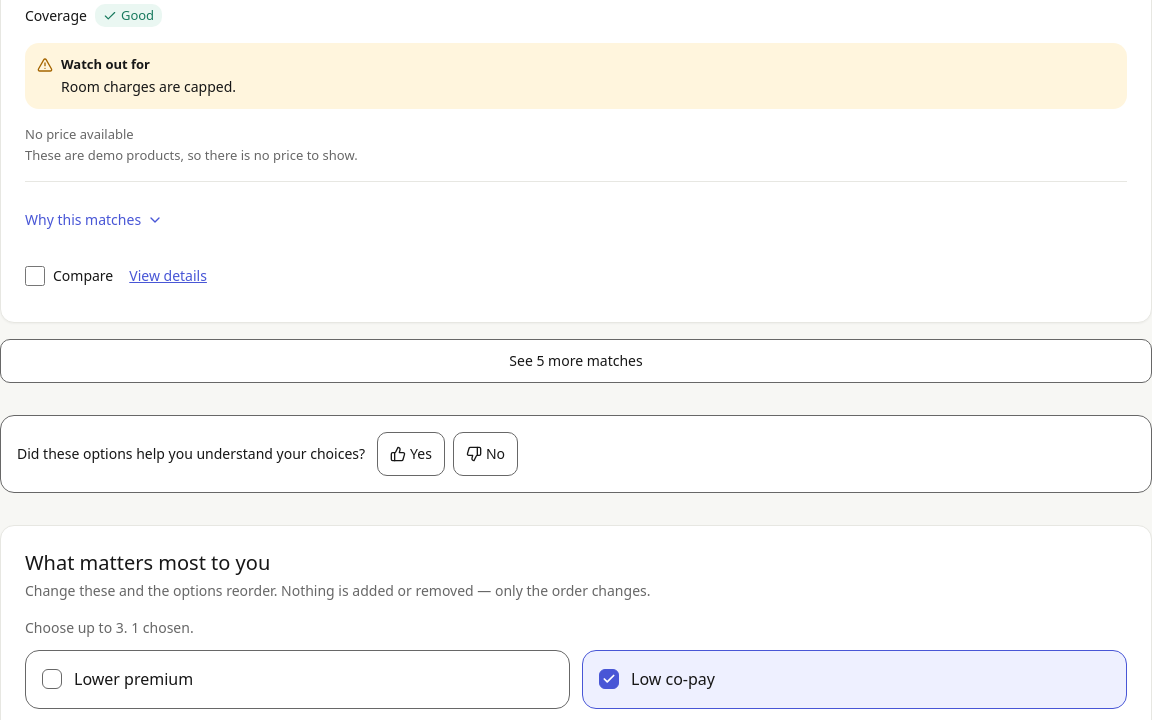
it: ResultsClient › shows 5 options and reveals 5 more on request
(page scrolled)
Click the button "See 5 more matches": x=576, y=360 [0,338,1151,382]
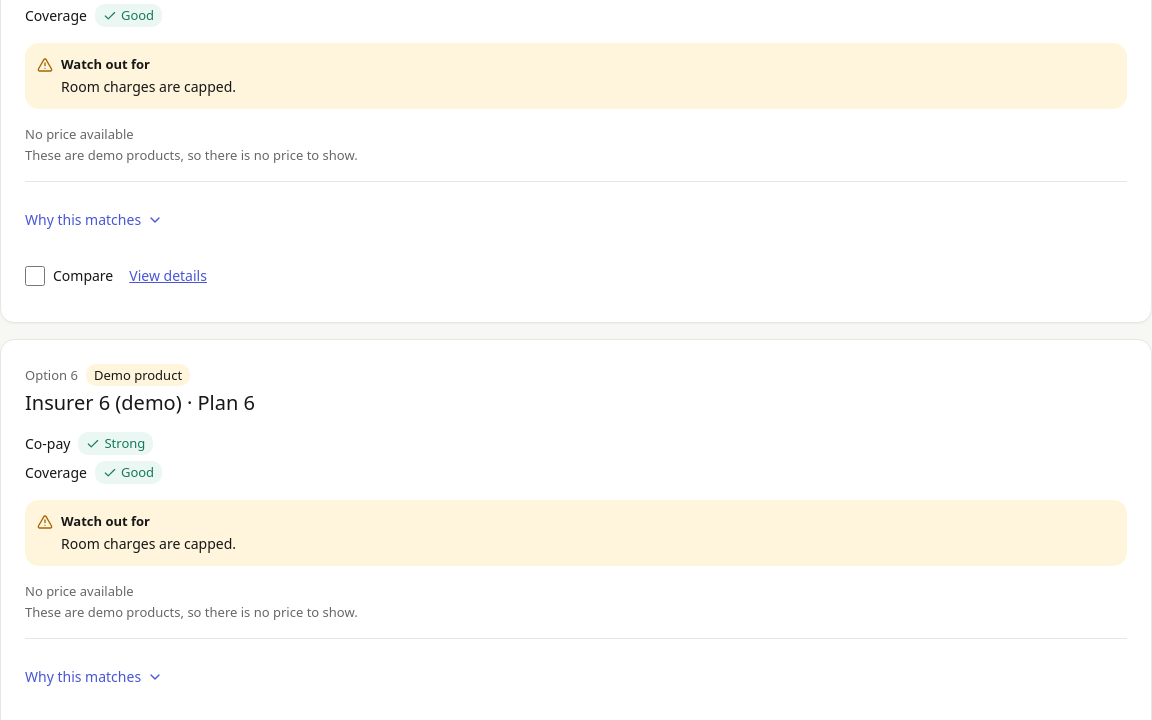
Check: the number of checkboxes labelled "Compare" is 10
Check: the button "See 5 more" is gone
